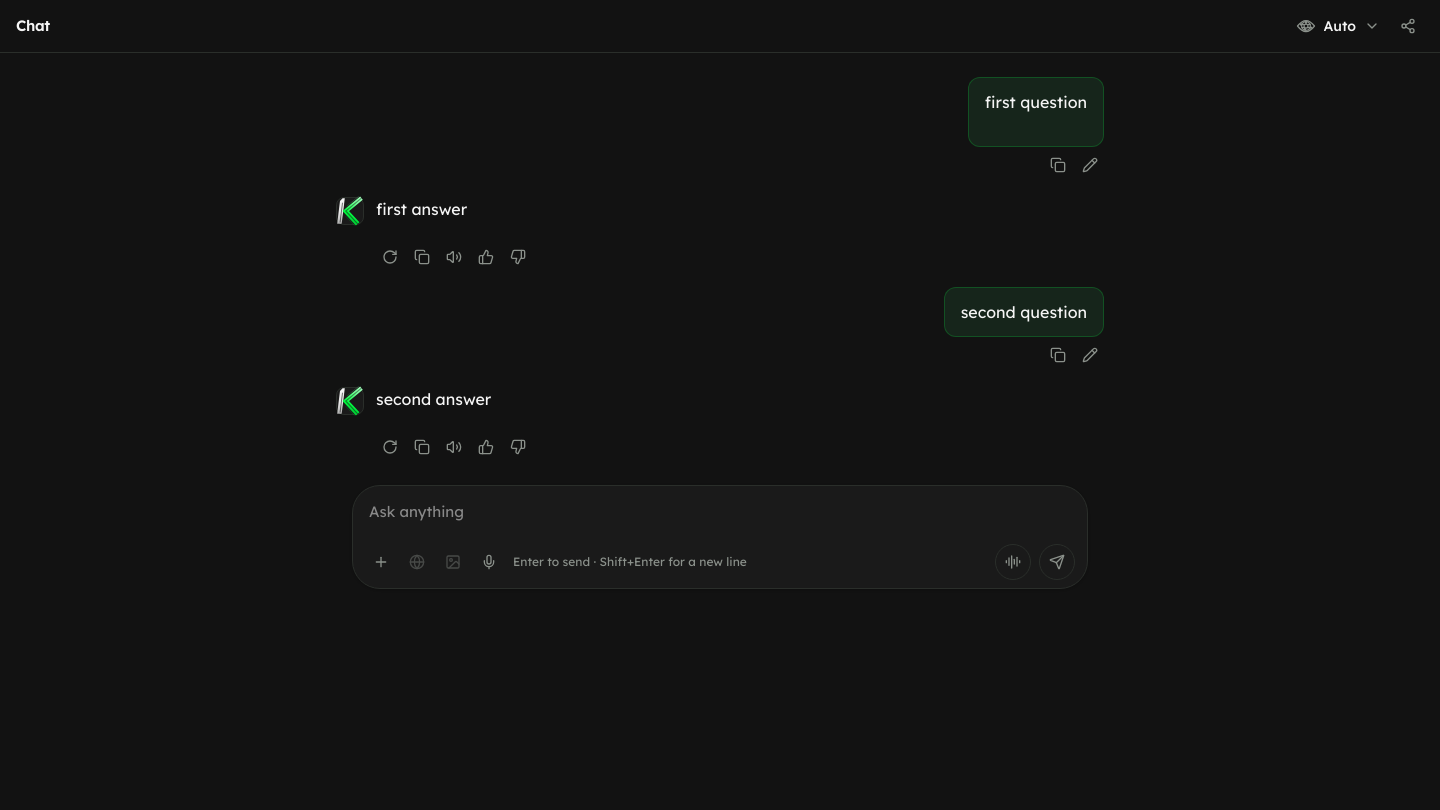
it: ChatPage message editing › asks the reworded question and answers it
This screenshot has width=1440, height=810.
Expected: the text "first question" is shown, [985,92,1087,112]
Click the button named "Edit message" below "first question".
click(1090, 165)  # box [1076,151,1104,179]
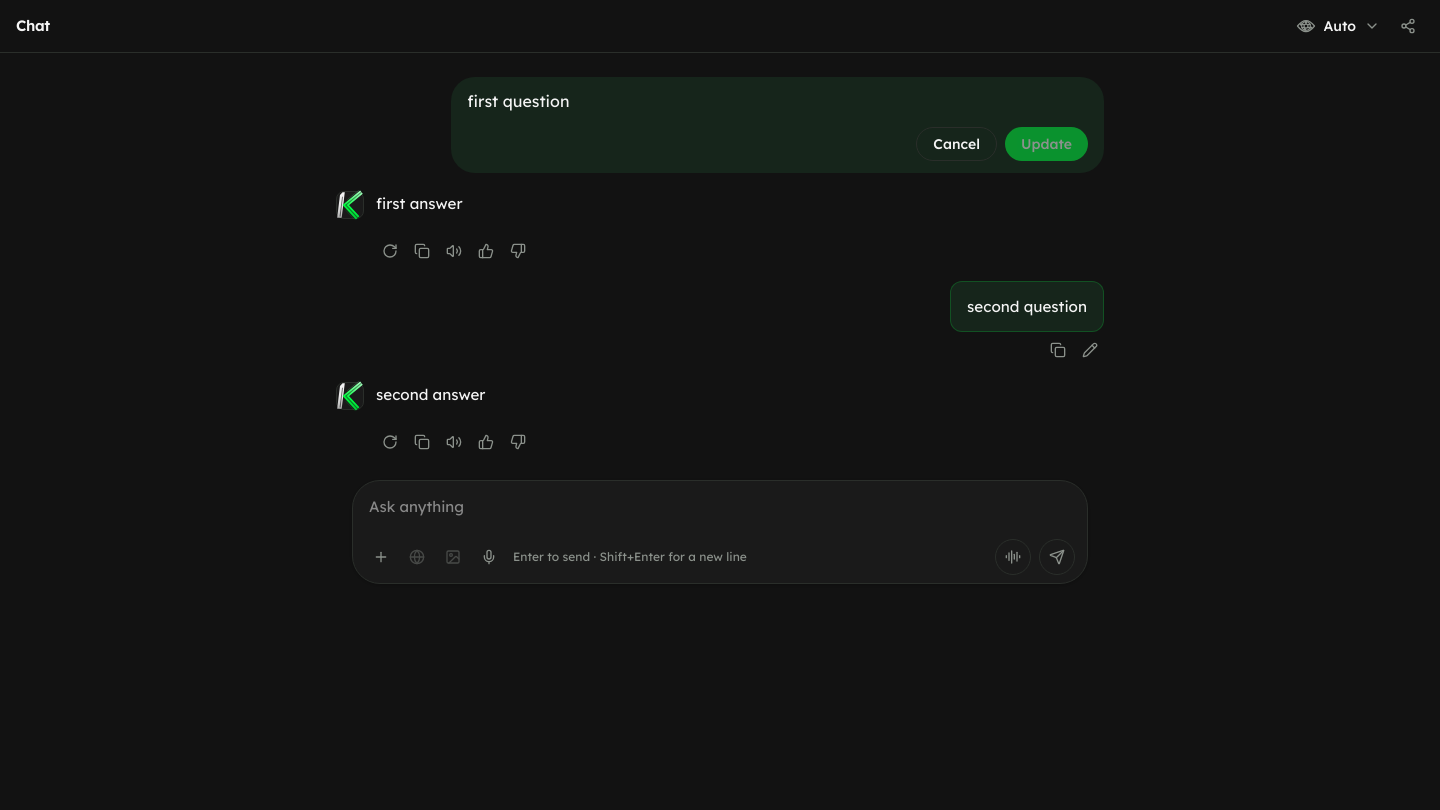
Replace the text in the text box named "Edit your message" with "edited question" at (778, 101), box [467,89,1088,113]
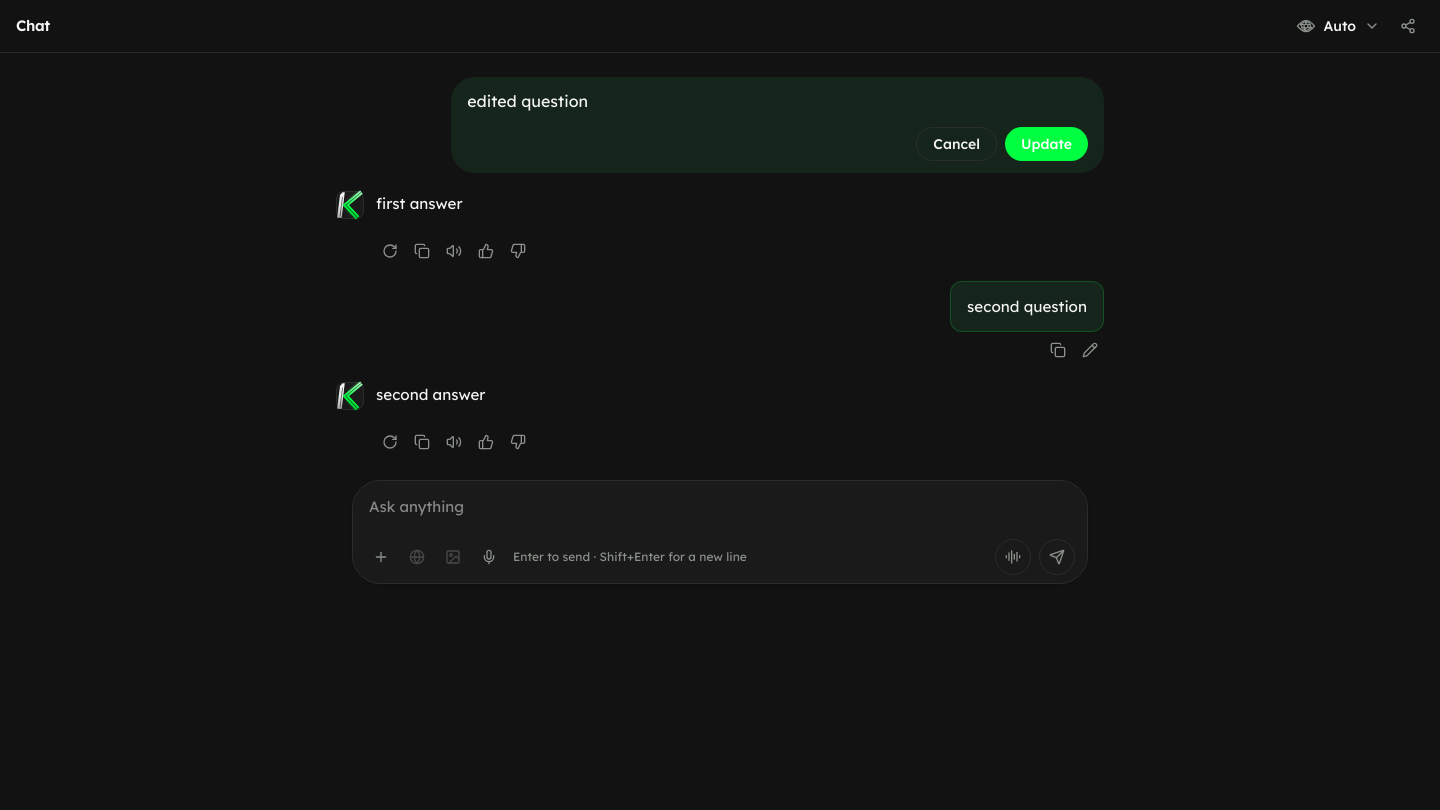
Click the button "Update".
click(1046, 144)  # box [1005,127,1088,161]
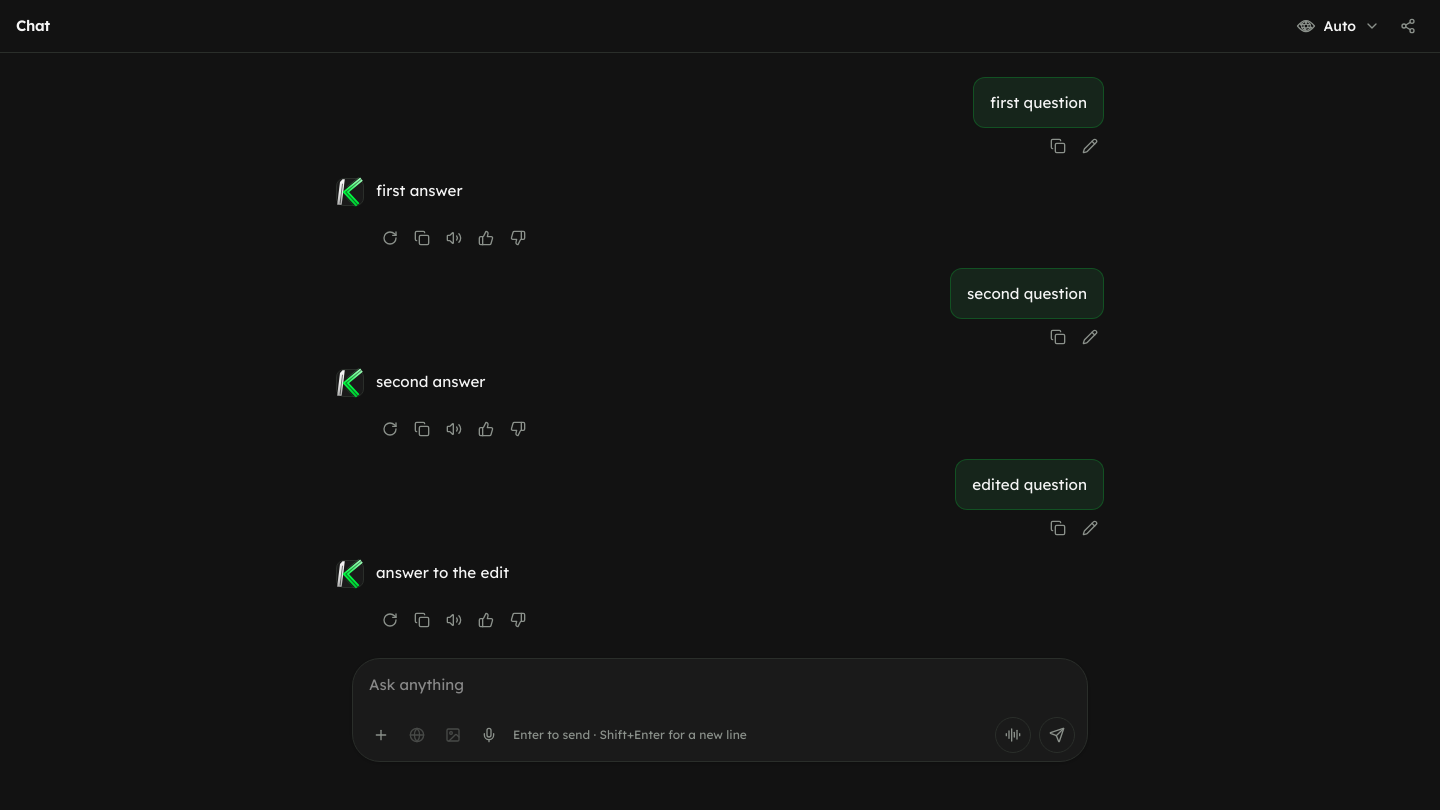
Result: the text "answer to the edit" is shown at [376,563,509,582]
Result: the text "edited question" is shown at [972,472,1087,497]
